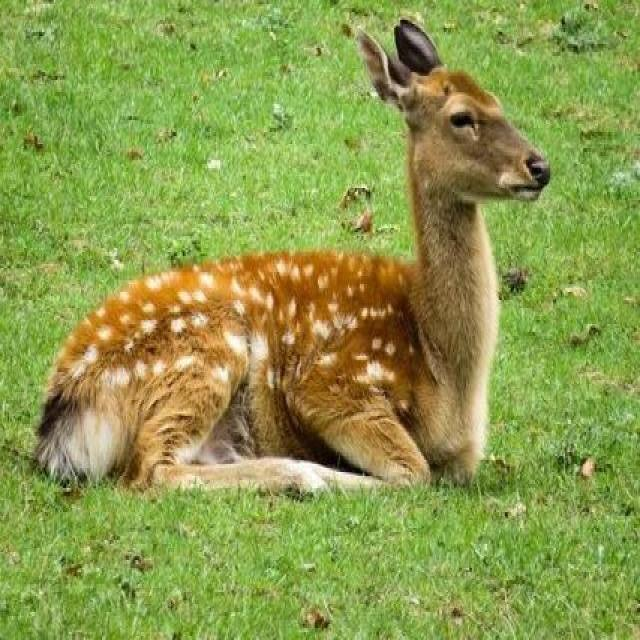deer: (45, 48, 548, 563)
